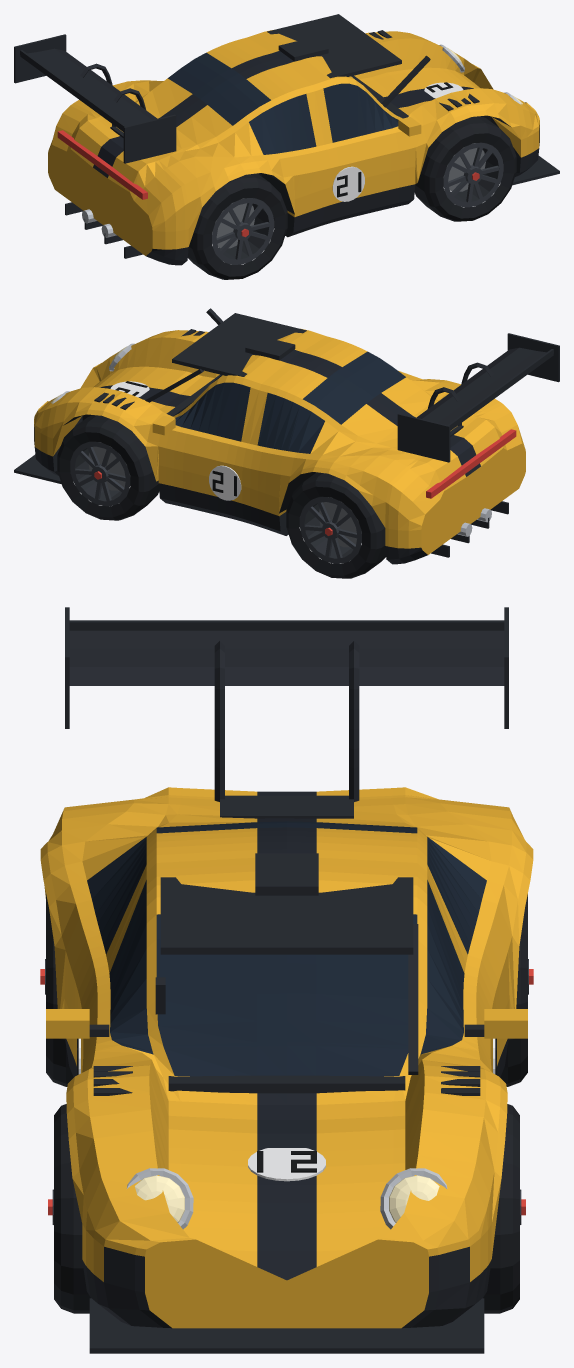
3 views of the same model, one above another, from view 1: azimuth 30°, elevation 25°; view 2: azimuth 150°, elevation 25°; view 3: azimuth 270°, elevation 25° (orthographic). The views are drawn at different scales.
Parts seen in each view (by area): view 1: body, glass, tyre-fr, tyre-rr; view 2: body, glass, tyre-fl, tyre-rl; view 3: body, glass, tyre-fr, tyre-fl, tyre-rl, tyre-rr.
Part boxes in pixels (x1,y1,x2,y2): body: (14,14,559,265); glass: (168,52,401,154); tyre-fr: (414,116,516,221); tyre-rr: (187,173,287,279); body: (14,308,559,564); glass: (173,351,405,453); tyre-fl: (57,415,159,520); tyre-rl: (286,472,386,578); body: (40,607,533,1353); glass: (87,821,486,1076); tyre-fr: (48,1104,90,1313); tyre-fl: (483,1104,525,1313); tyre-rl: (500,894,533,1086); tyre-rr: (40,894,73,1086).
Size of the model in its own units: 2.58 by 1 by 1.25.
